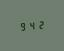four: (28, 20, 36, 30)
nine: (18, 21, 26, 31)
two: (37, 19, 45, 29)
